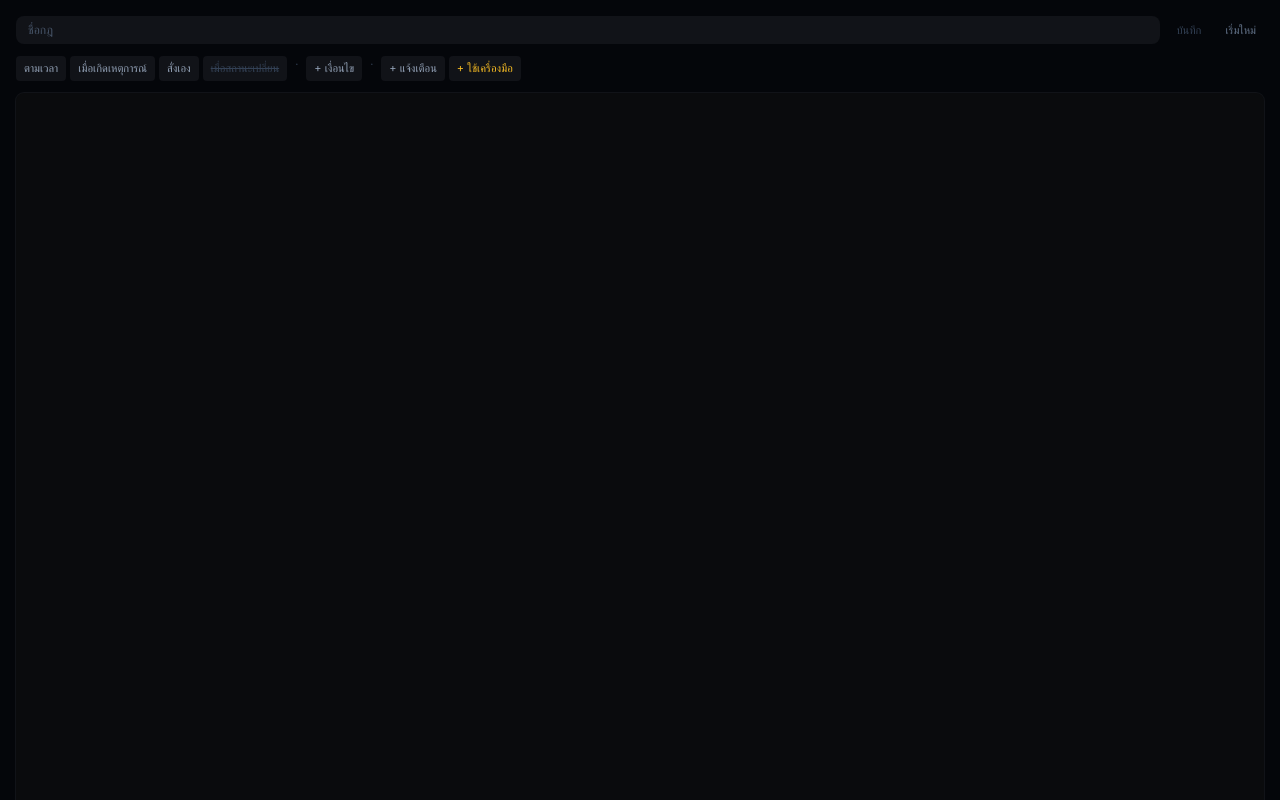
Scenario: saving is not arming › says out loud that a saved rule is not yet running
Type "กฎใหม่" into the field labelled "ชื่อกฎ".
click(588, 30); type("กฎใหม่")  # box [16, 16, 1160, 44]
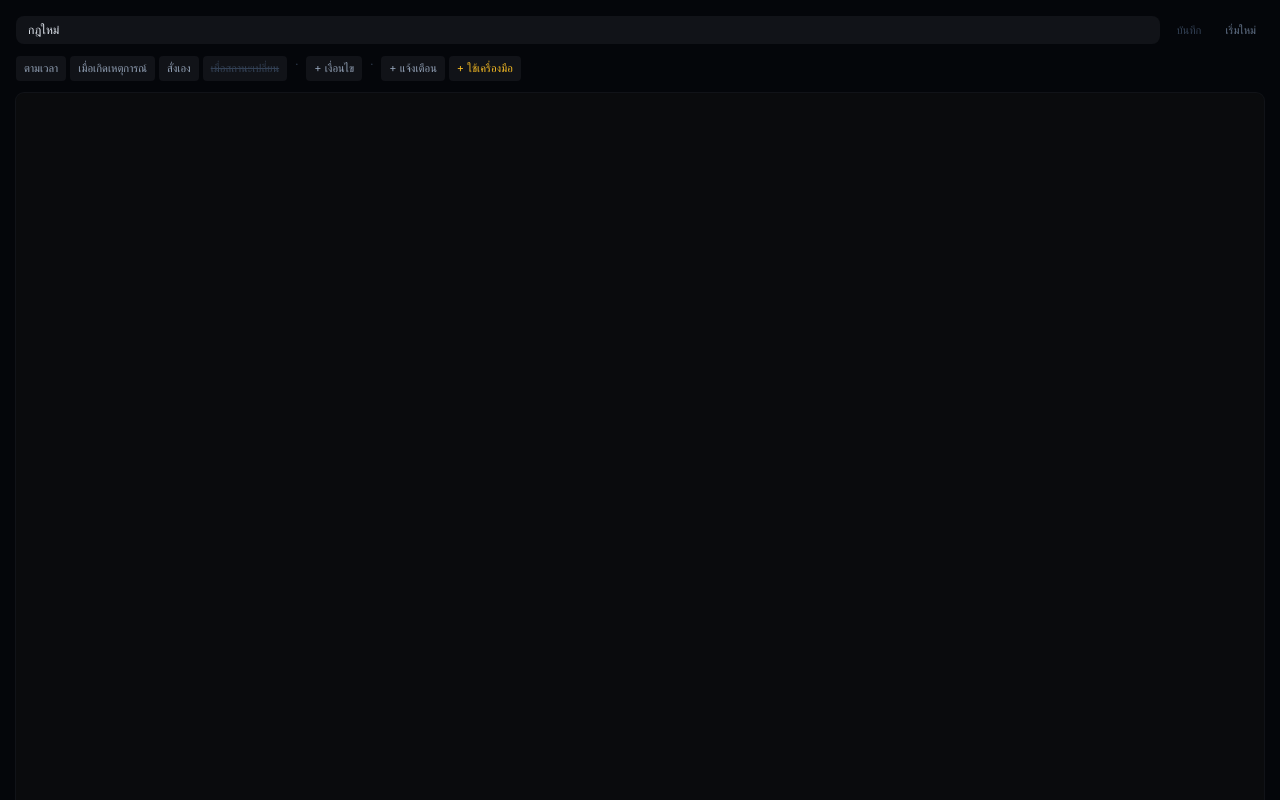
Click the button "ตามเวลา".
click(41, 68)  # box [16, 56, 66, 80]
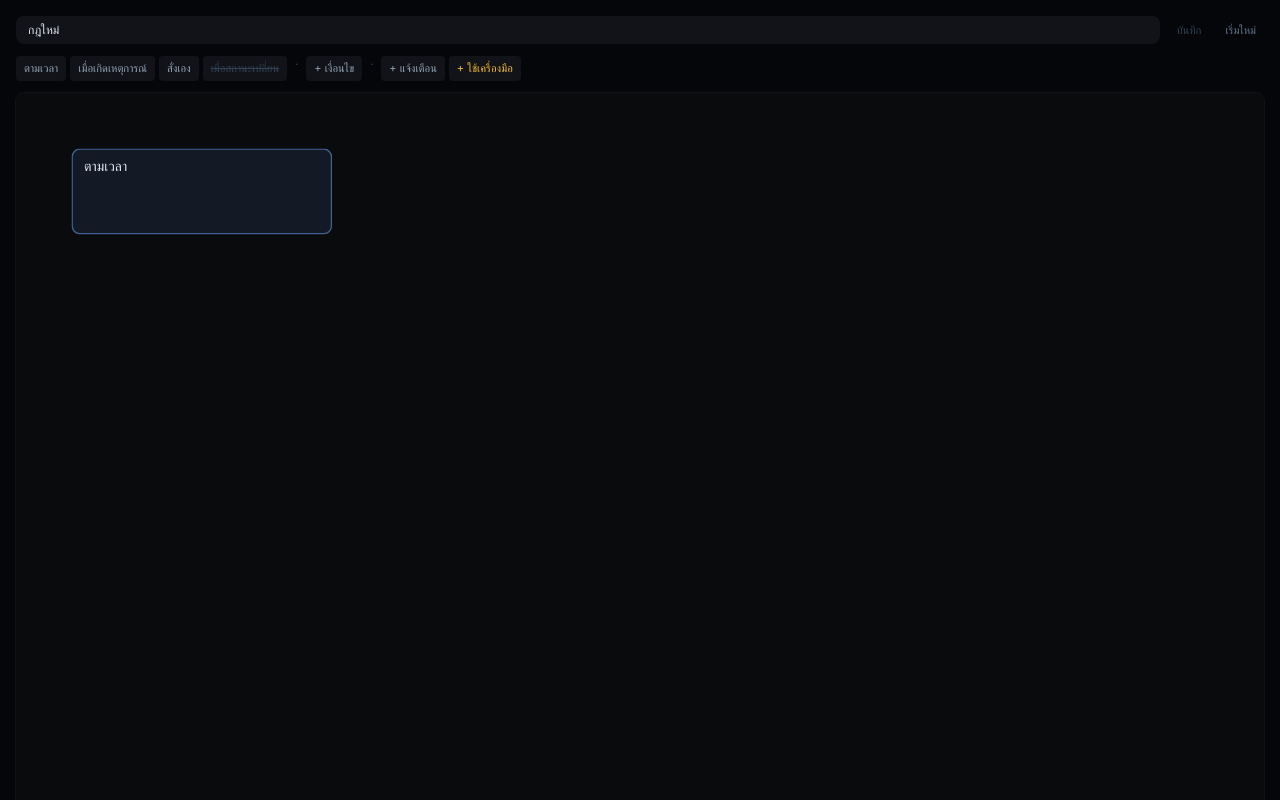
Click the button "+ แจ้งเตือน".
click(413, 68)  # box [381, 56, 445, 80]
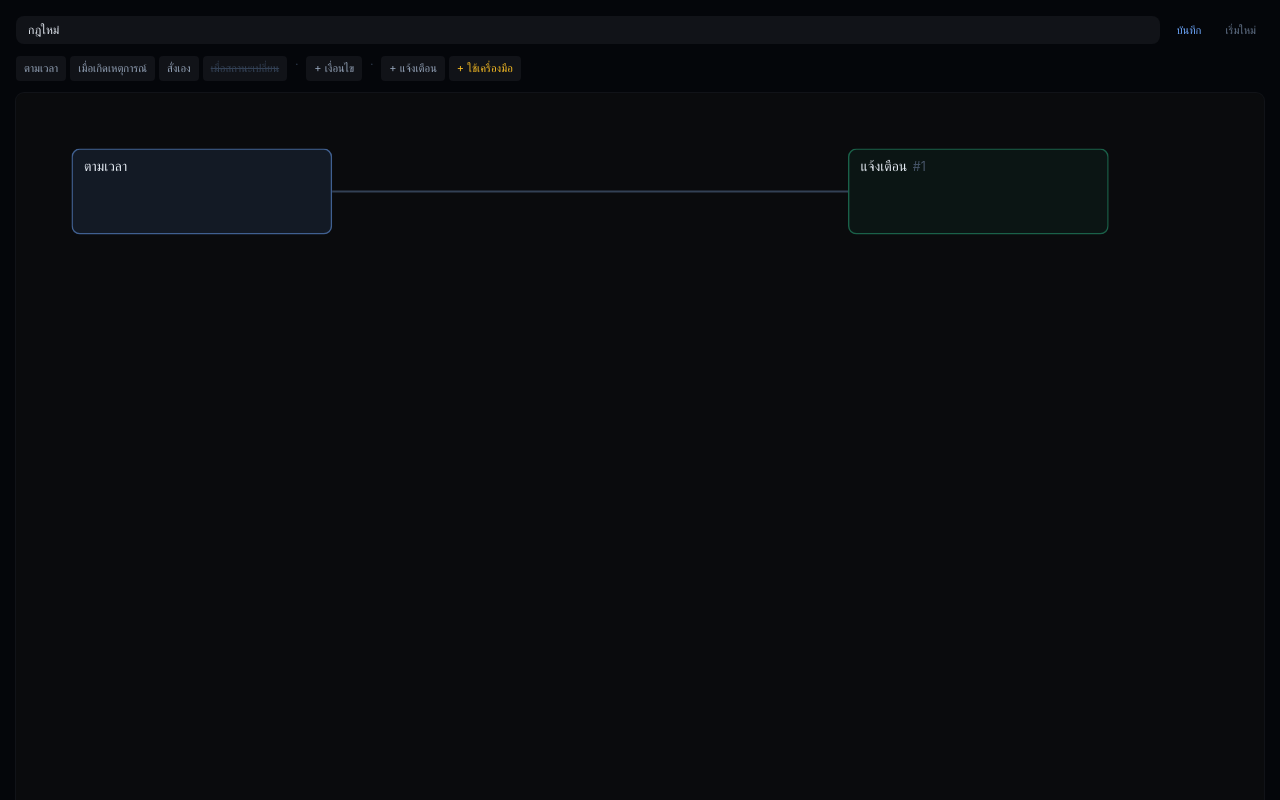
Result: the button "บันทึก" is enabled
Click the button "บันทึก".
click(1189, 30)  # box [1168, 18, 1209, 42]
(page scrolled)
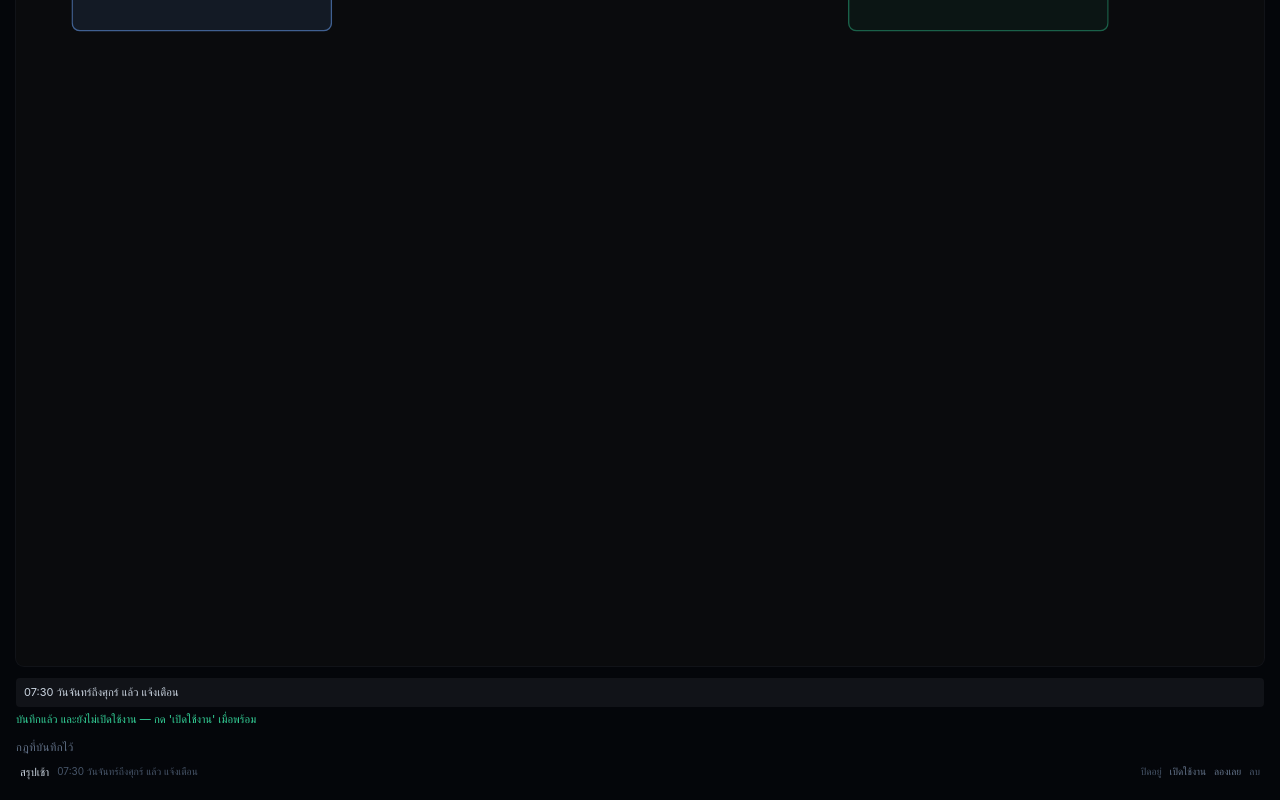
Result: the text "บันทึกแล้ว และยังไม่เปิดใช้งาน — กด 'เปิดใช้งาน' เมื่อพร้อม" is shown at [16, 712, 256, 726]
